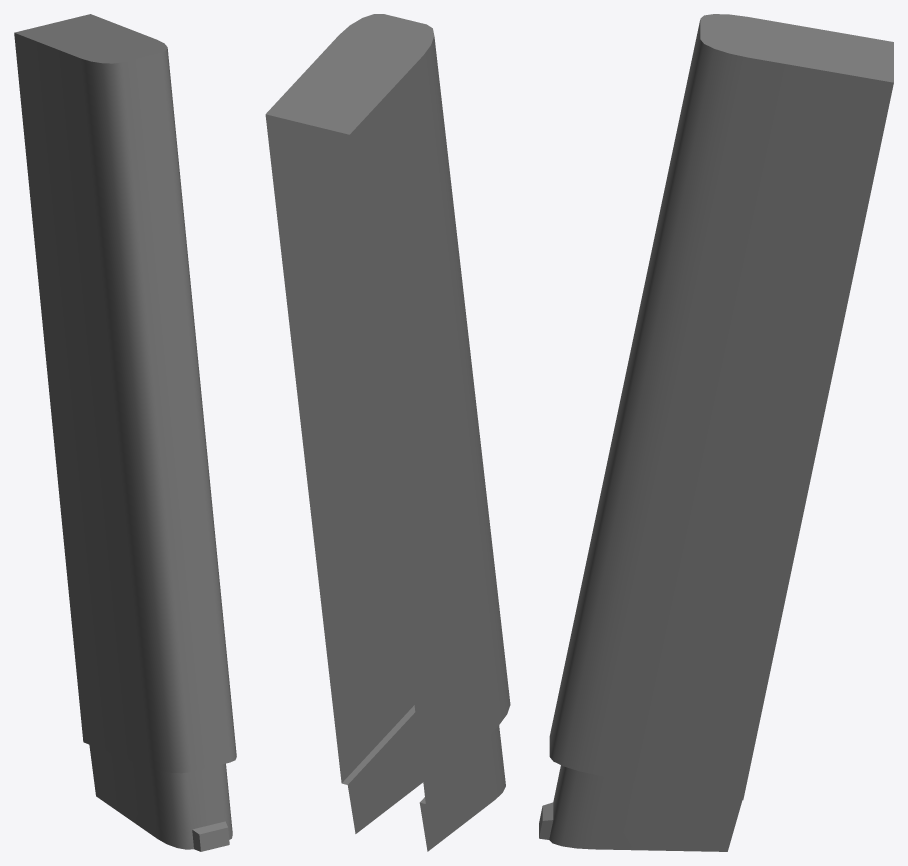
The model's file is q-scifi-mod-column-astra.glb.
The picture shows the model from 3 angles, left to right: view 1: azimuth 30°, elevation 25°; view 2: azimuth 150°, elevation 25°; view 3: azimuth 270°, elevation 25°; orthographic projection. The views are drawn at different scales.
Parts seen in each view (by area): view 1: Column_Astra; view 2: Column_Astra; view 3: Column_Astra.
Part boxes in pixels (box(x1,y1,x2,y2)): Column_Astra: box(14, 14, 236, 851); Column_Astra: box(265, 14, 510, 851); Column_Astra: box(539, 14, 893, 851).
Bounding box in the file's own units: 0.3278 × 3.03 × 1.21.
Materials: 3 (3 with a texture image).
